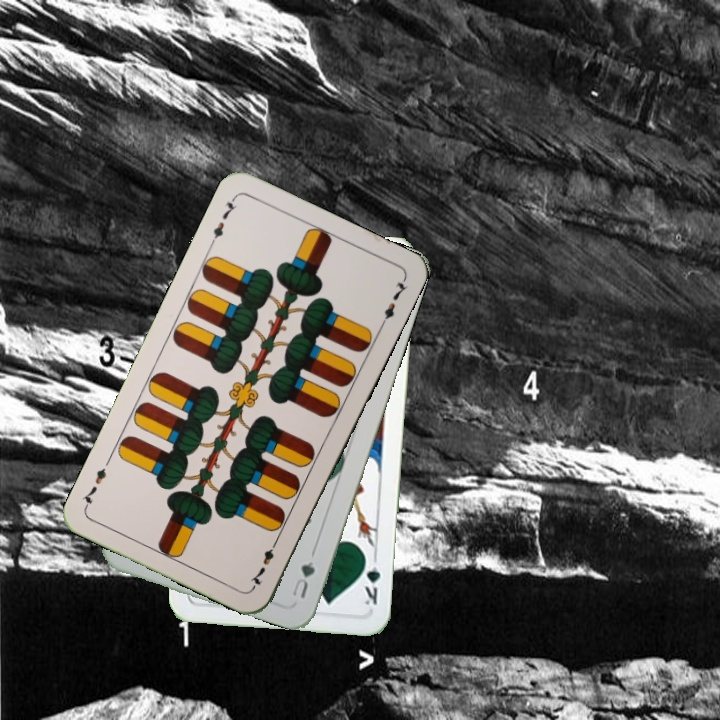E7: (246, 535, 281, 591), (206, 193, 240, 248)
GK: (360, 551, 383, 608)
GU: (288, 557, 318, 601)
